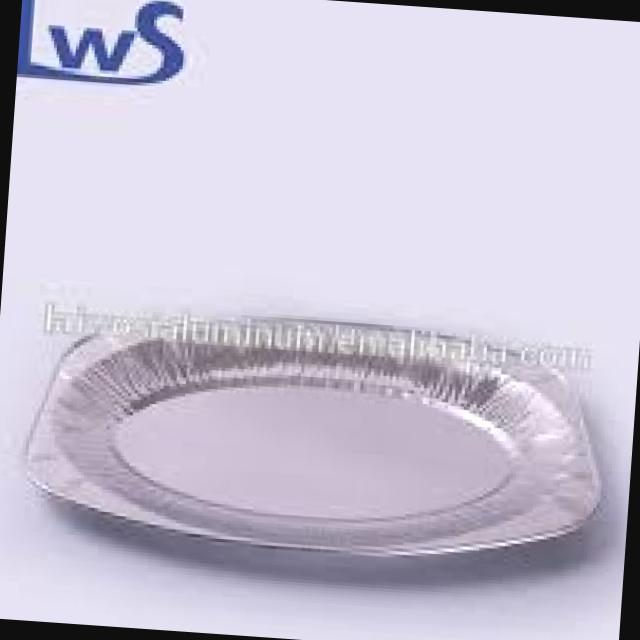kim_loai: (23, 304, 604, 563)
